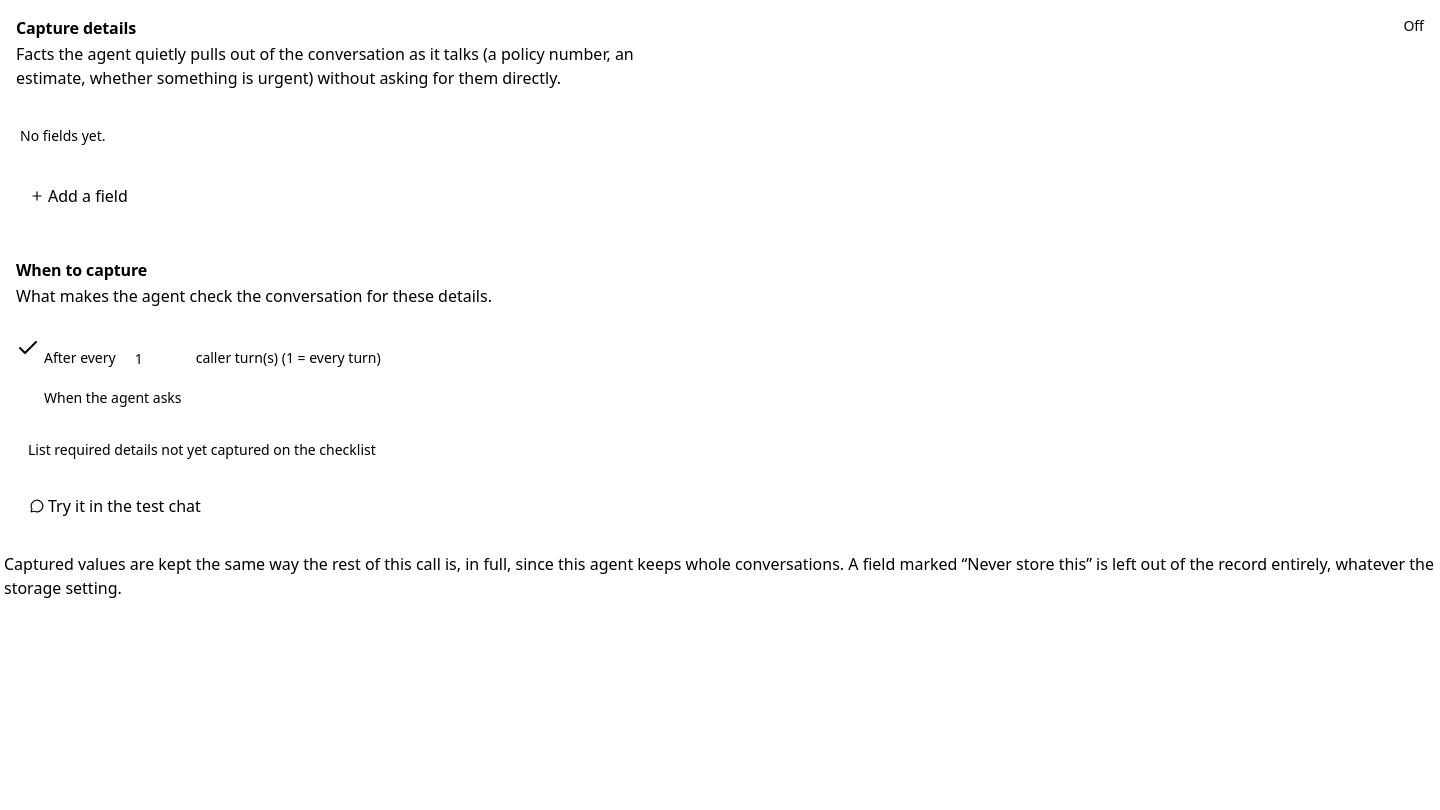
Scenario: ExtractionTab › the still-needed toggle warns when the panel has no checklist block
Click the button "List required details not yet captured on the checklist".
click(198, 450)  # box [20, 440, 376, 460]
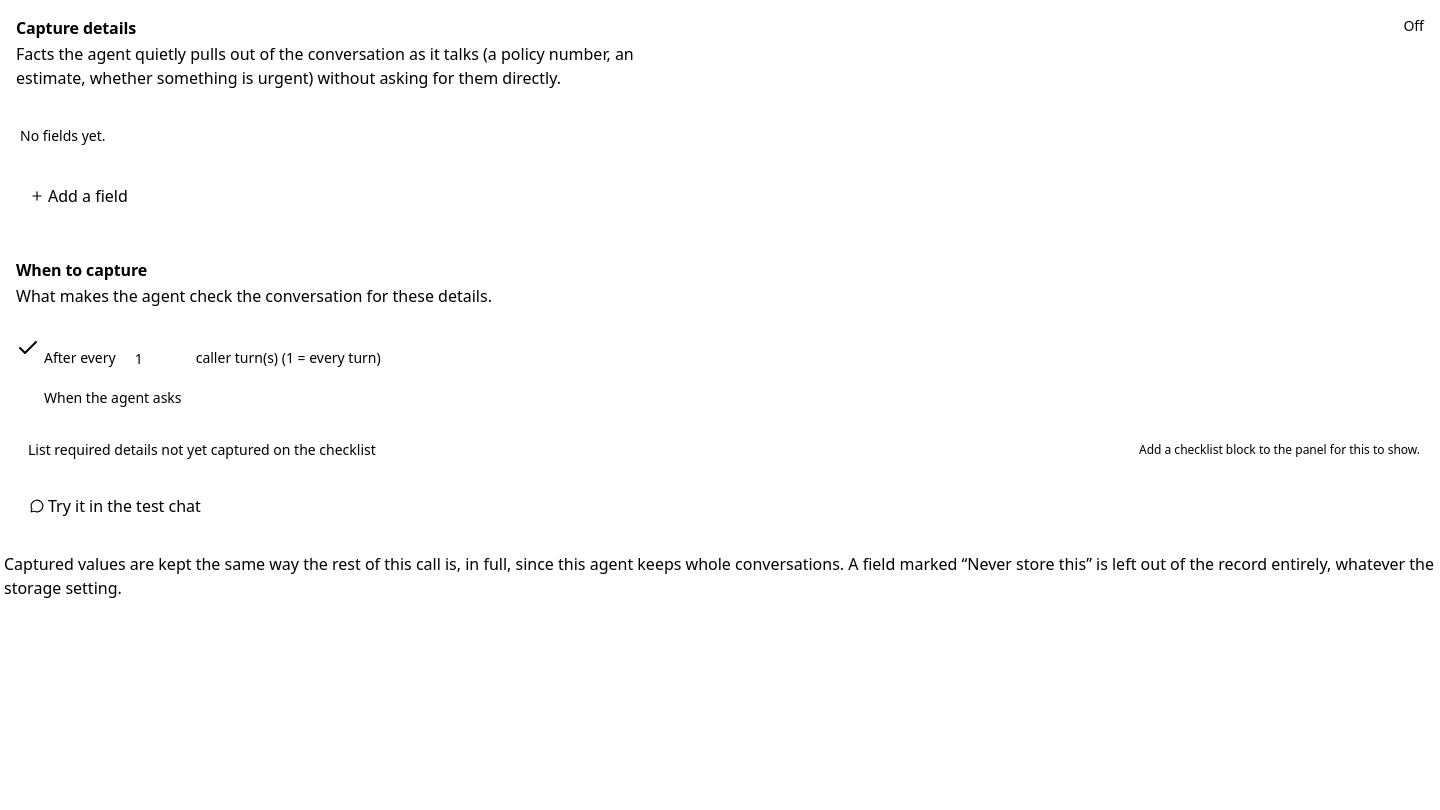
Expected: the text "Add a checklist block to the panel for this to show." is shown, [1139, 442, 1420, 458]
